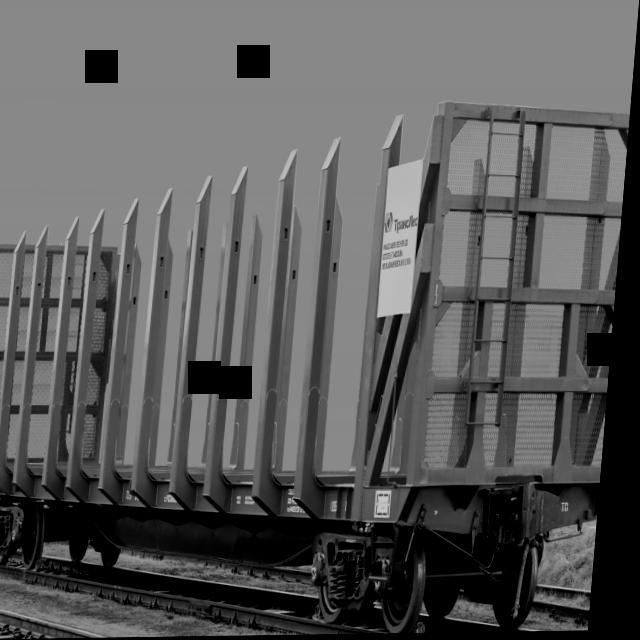flatcar_bulkhead: (0, 88, 634, 640)
